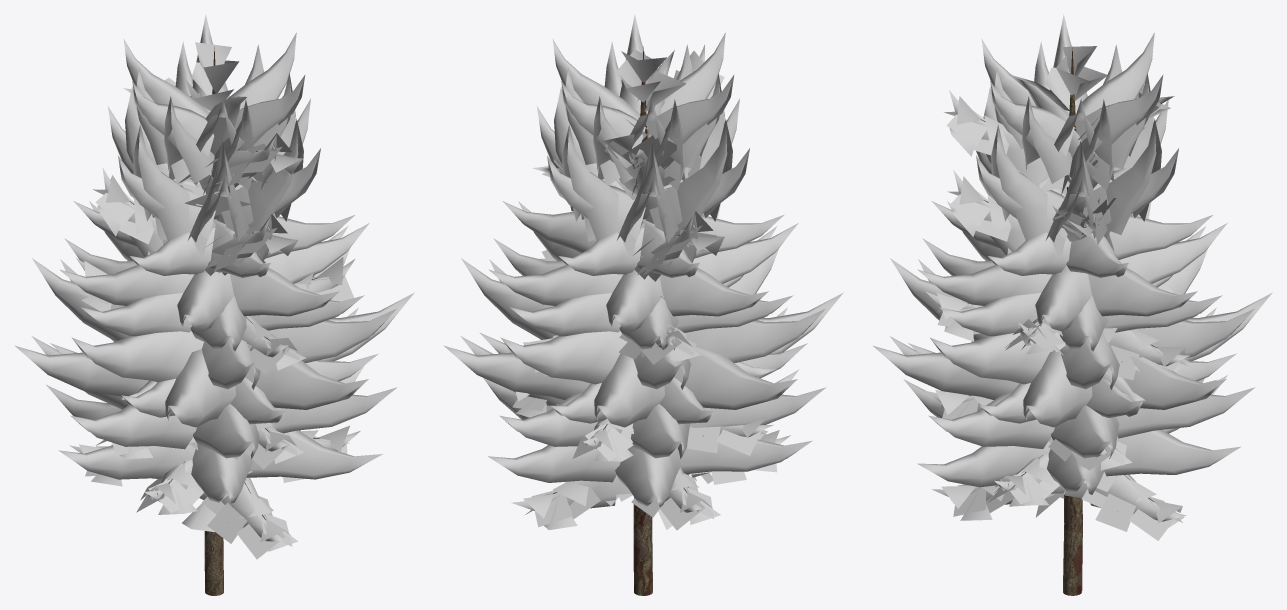
The model's file is SM_tree_b.fbx.
3 views of the same model, side by side, from view 1: azimuth 30°, elevation 25°; view 2: azimuth 150°, elevation 25°; view 3: azimuth 270°, elevation 25° (orthographic).
Visible parts, largest first — view 1: SM_tree_b_LOD0; view 2: SM_tree_b_LOD0; view 3: SM_tree_b_LOD0.
Part boxes in pixels (left/top/right/bottom): SM_tree_b_LOD0: left=14, top=14, right=414, bottom=595; SM_tree_b_LOD0: left=443, top=14, right=843, bottom=595; SM_tree_b_LOD0: left=873, top=14, right=1272, bottom=595.
Size of what is drawn, in the model's own units: 3532 by 5187 by 3455.
